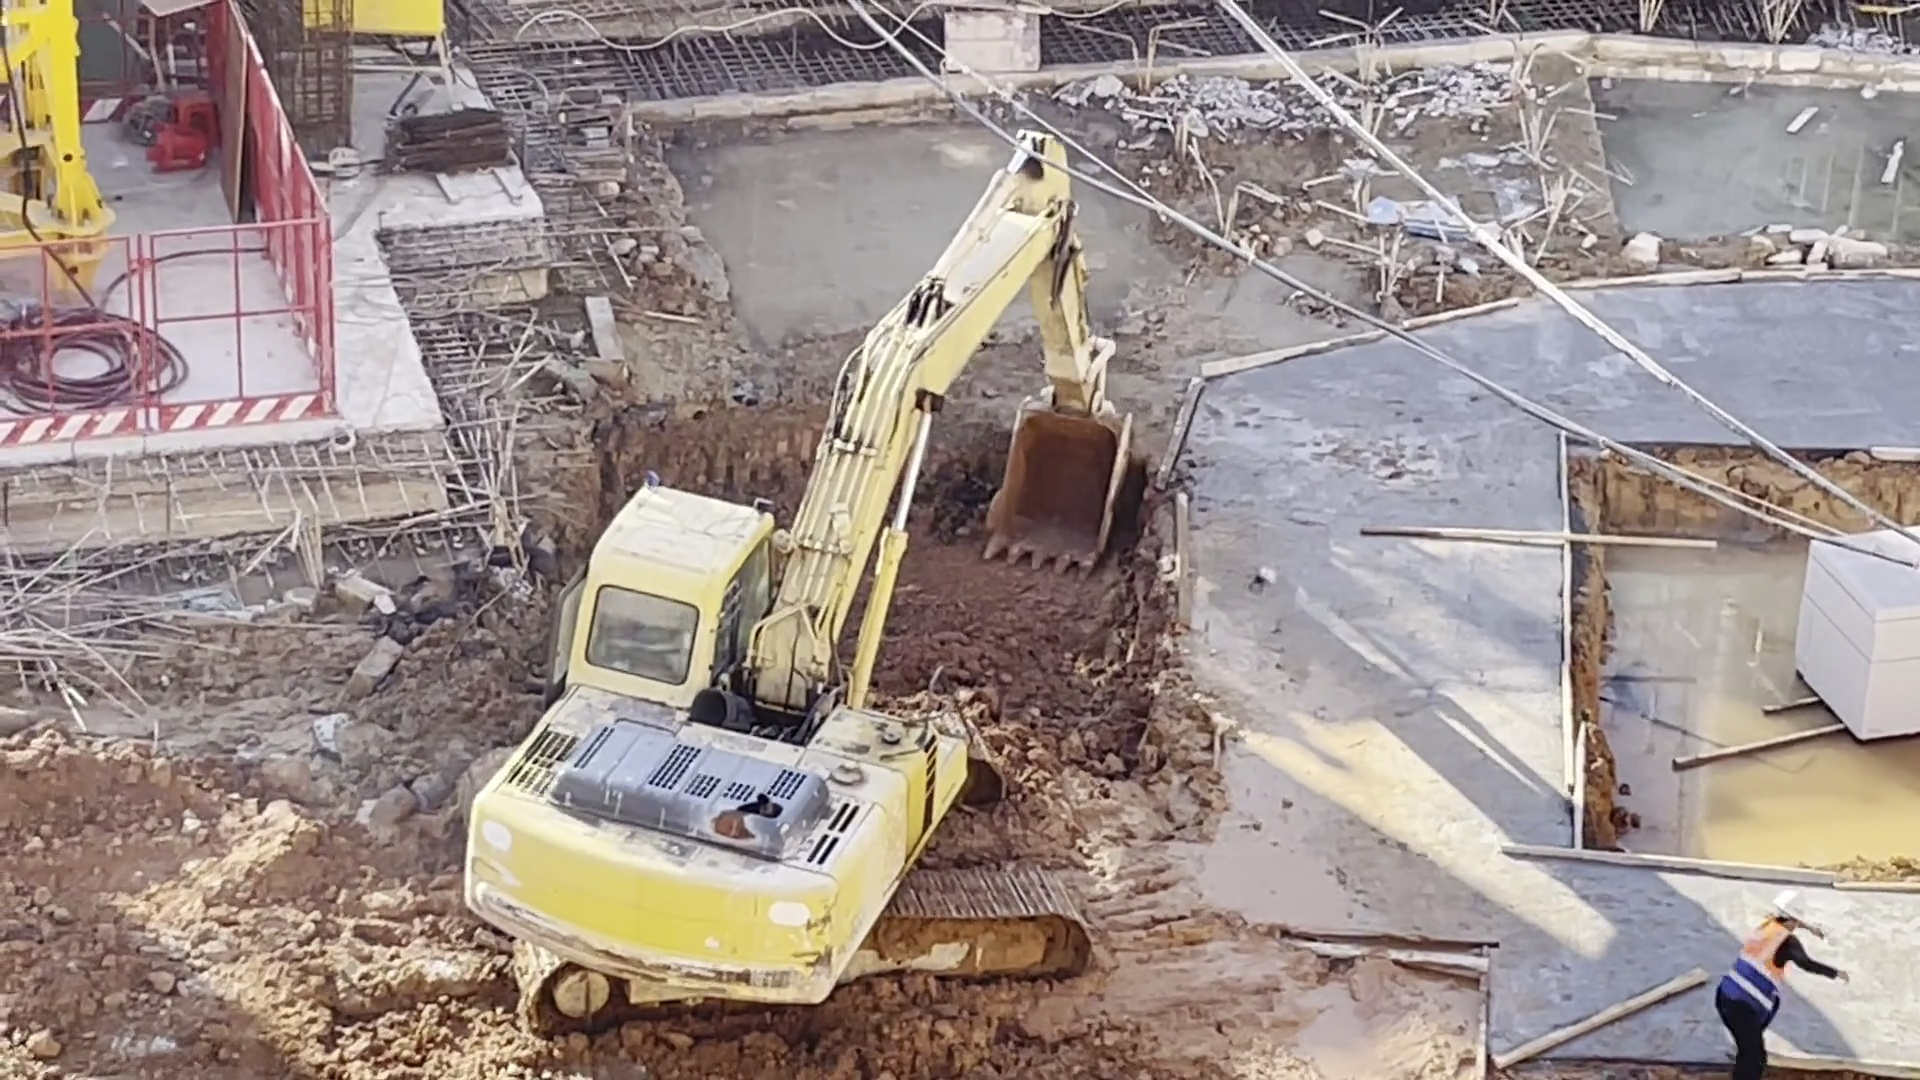brick: (1786, 575, 1920, 747)
ebox: (355, 4, 470, 117)
fence: (26, 212, 334, 428), (247, 46, 333, 419)
helmet: (1770, 882, 1807, 928)
person: (1708, 887, 1847, 1080)
vest: (1722, 923, 1791, 1015)
